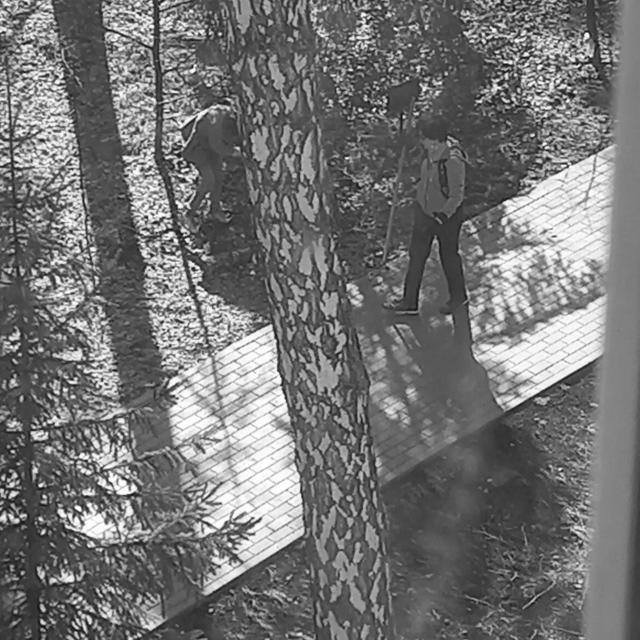Invader: (382, 115, 471, 316)
